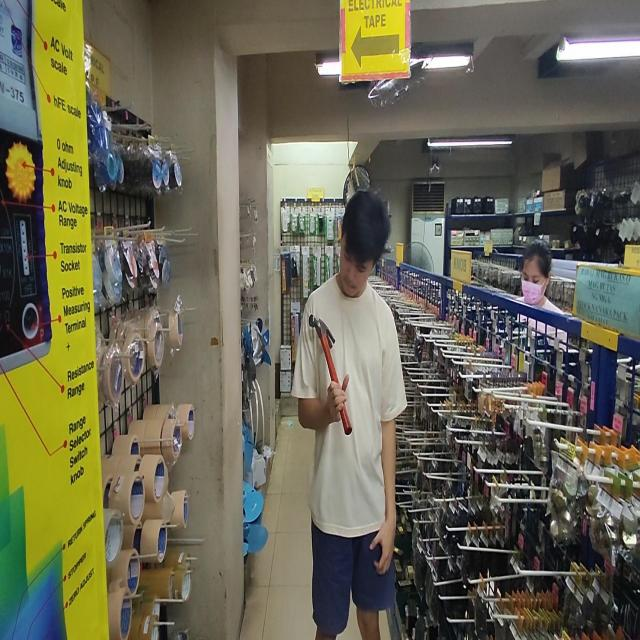hammer: (309, 316, 351, 434)
